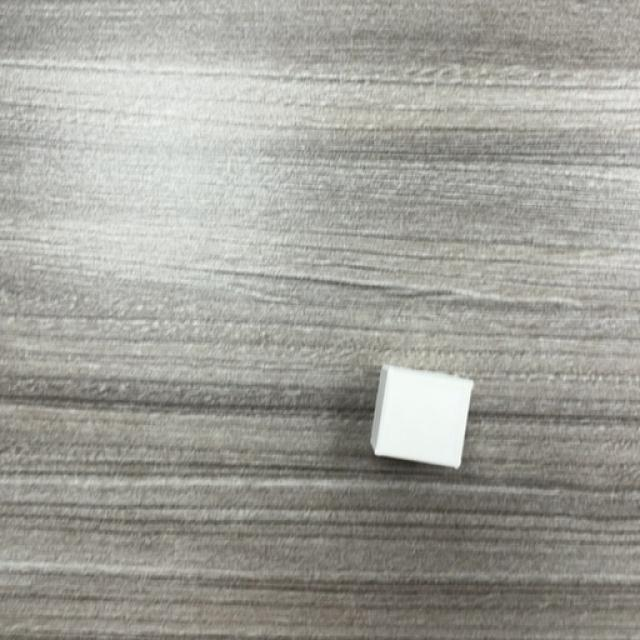Blanco: (370, 365, 474, 471)
